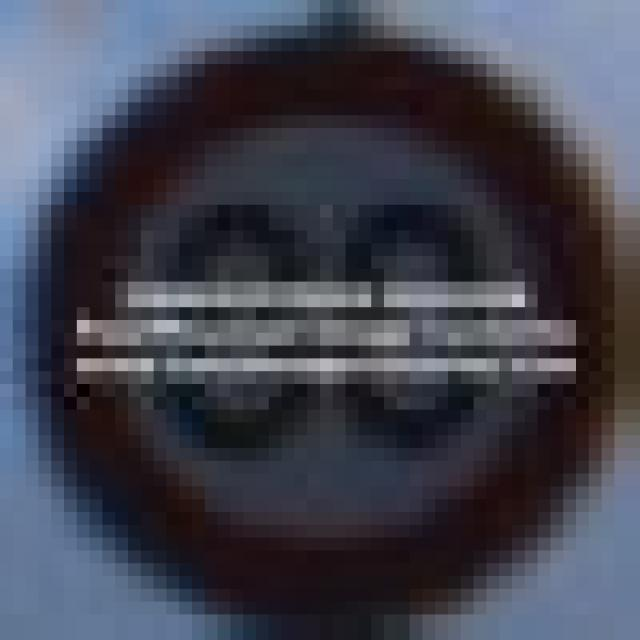SPEED_LIMIT_80: (26, 26, 614, 614)
